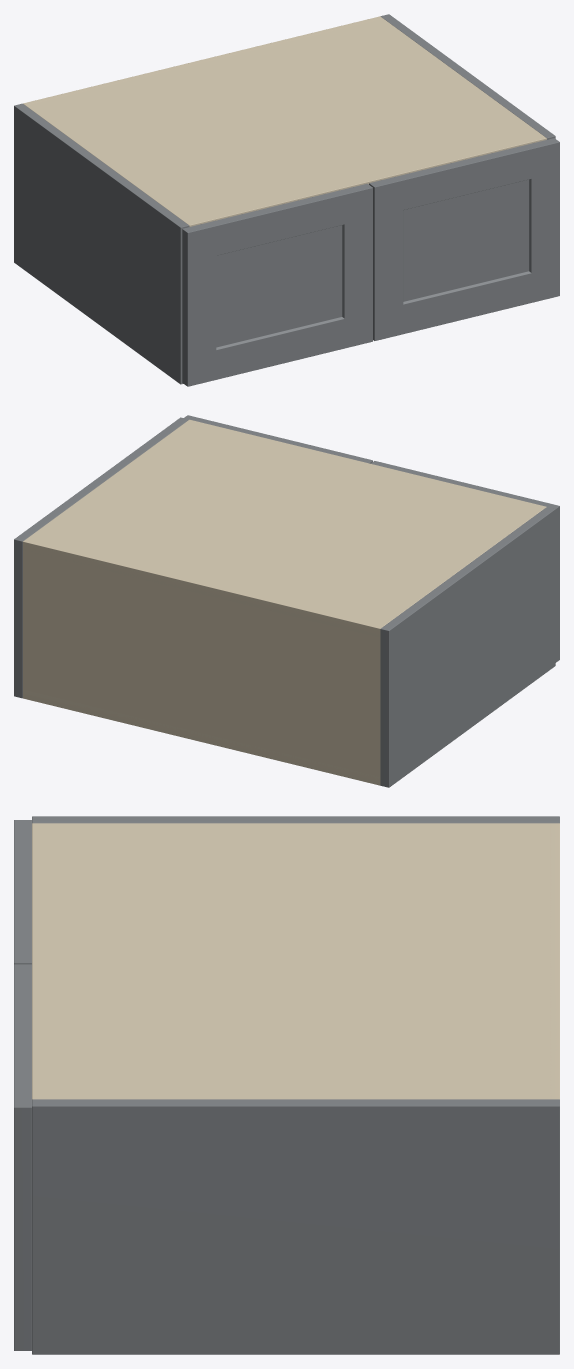
File: oppein-ply-gss-w301224.glb
3 renders of one model, top to bottom at view 1: azimuth 30°, elevation 25°; view 2: azimuth 150°, elevation 25°; view 3: azimuth 270°, elevation 25°, orthographic. The views are drawn at different scales.
Visible parts, largest first — view 1: Cabinet top, Door, Door.001, Cabinet side, Cabinet side.001, Cabinet back; view 2: Cabinet top, Cabinet back, Cabinet side, Cabinet side.001, Cabinet bottom, Door, Door.001; view 3: Cabinet top, Cabinet side.001, Door.001, Cabinet side, Cabinet back, Door.
Boxes of the visible parts, box(x1,y1,x2,y2) form: Cabinet top: box(26, 16, 546, 226); Door: box(182, 183, 372, 386); Door.001: box(369, 138, 559, 340); Cabinet side: box(14, 103, 189, 384); Cabinet side.001: box(380, 14, 555, 139); Cabinet back: box(23, 16, 382, 105); Cabinet top: box(23, 419, 546, 636); Cabinet back: box(23, 539, 382, 785); Cabinet side: box(380, 507, 555, 787); Cabinet side.001: box(14, 417, 188, 698); Cabinet bottom: box(23, 689, 380, 784); Door: box(371, 461, 559, 662); Door.001: box(184, 415, 372, 463); Cabinet top: box(32, 823, 559, 1099); Cabinet side.001: box(32, 1099, 559, 1354); Door.001: box(14, 964, 31, 1350); Cabinet side: box(32, 816, 559, 823); Cabinet back: box(549, 823, 559, 1099); Door: box(14, 820, 31, 964).
Bounding box in the file's own units: 0.762 × 0.3048 × 0.6064.
